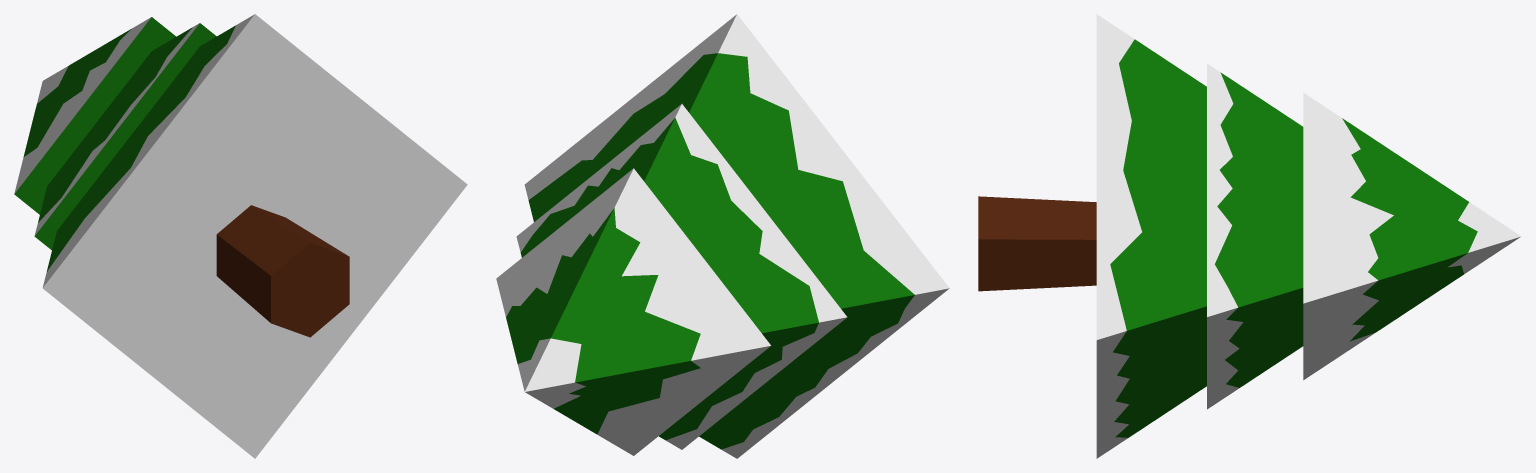
File: tree_01.fbx
3 views of the same model, side by side, from view 1: azimuth 30°, elevation 25°; view 2: azimuth 150°, elevation 25°; view 3: azimuth 270°, elevation 25° (orthographic).
Visible parts, largest first — view 1: Cylinder; view 2: Cylinder; view 3: Cylinder.
Part boxes in pixels (box(x1,y1,x2,y2)): Cylinder: box(14, 14, 467, 458); Cylinder: box(496, 14, 949, 458); Cylinder: box(978, 14, 1521, 458).
Size of the model in its own units: 281 by 281 by 311.
